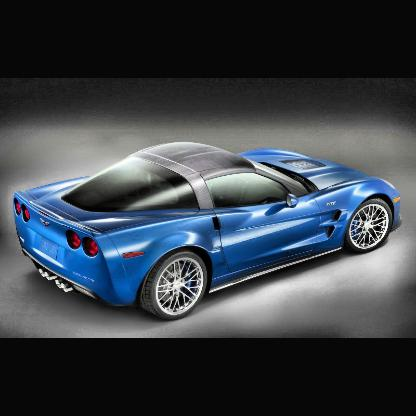Chevrolet Corvette ZR1 2012: (14, 143, 402, 319)
